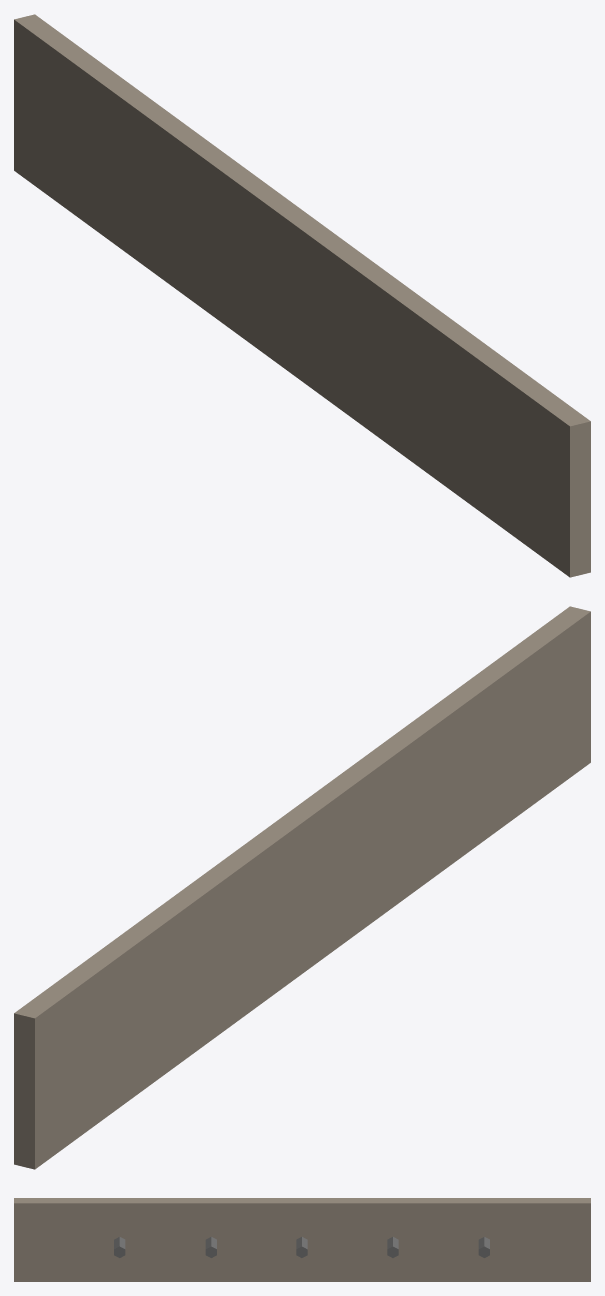
Rendered from Key_Holder.fbx.
The picture shows the model from 3 angles, top to bottom: view 1: azimuth 30°, elevation 25°; view 2: azimuth 150°, elevation 25°; view 3: azimuth 270°, elevation 25°; orthographic projection. The views are drawn at different scales.
Visible parts, largest first — view 1: Key_Holder1; view 2: Key_Holder1; view 3: Key_Holder1.
Part boxes in pixels (x1,y1,x2,y2): Key_Holder1: [14, 14, 590, 577]; Key_Holder1: [14, 606, 590, 1169]; Key_Holder1: [14, 1198, 590, 1281].
Size of the model in its own units: 3.93 by 9.52 by 63.49.
